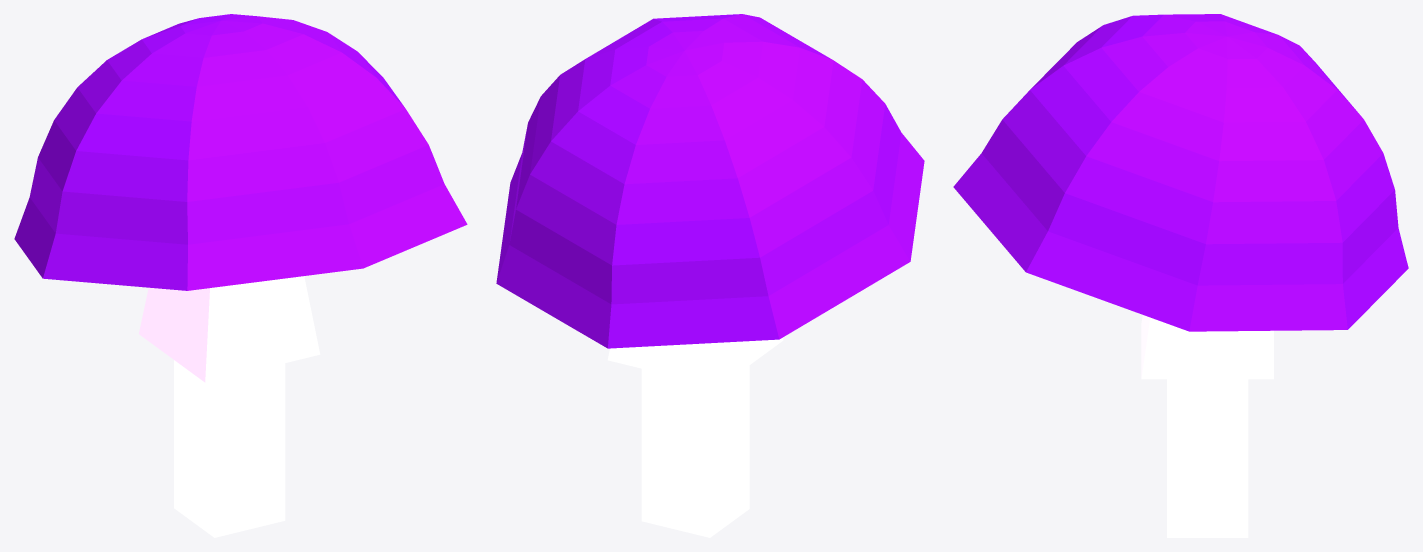
File: Mushrooms_1.fbx
3 renders of one model, left to right at view 1: azimuth 30°, elevation 25°; view 2: azimuth 150°, elevation 25°; view 3: azimuth 270°, elevation 25°, orthographic. The views are drawn at different scales.
Parts seen in each view (by area): view 1: Mushroom 1; view 2: Mushroom 1; view 3: Mushroom 1.
Boxes of the visible parts, x1,y1,x2,y2 form: Mushroom 1: [14, 14, 467, 537]; Mushroom 1: [496, 14, 924, 537]; Mushroom 1: [953, 14, 1408, 537].
Size of the model in its own units: 315 by 365 by 308.
